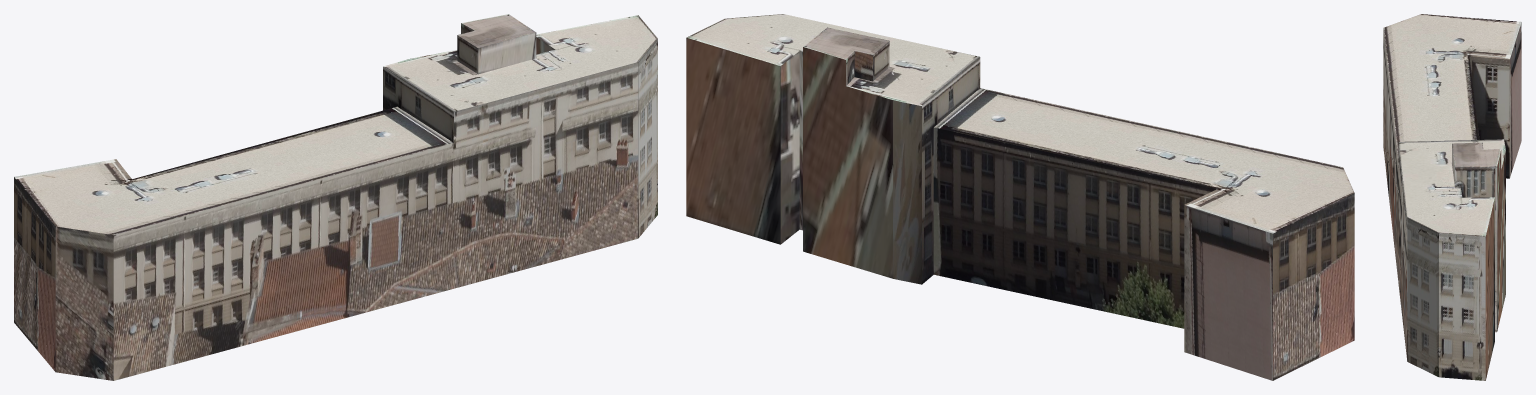
The picture shows the model from 3 angles, left to right: view 1: azimuth 30°, elevation 25°; view 2: azimuth 150°, elevation 25°; view 3: azimuth 270°, elevation 25°; orthographic projection. The views are drawn at different scales.
Parts seen in each view (by area): view 1: Z_UP; view 2: Z_UP; view 3: Z_UP.
Boxes of the visible parts, x1,y1,x2,y2 form: Z_UP: [14, 14, 657, 380]; Z_UP: [686, 14, 1354, 380]; Z_UP: [1383, 14, 1521, 380].
Size of the model in its own units: 67.81 by 21.1 by 15.99.
Materials: 2 (1 with a texture image).
